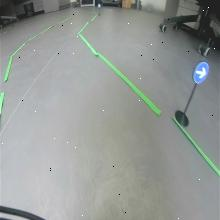right: (192, 60, 210, 84)
